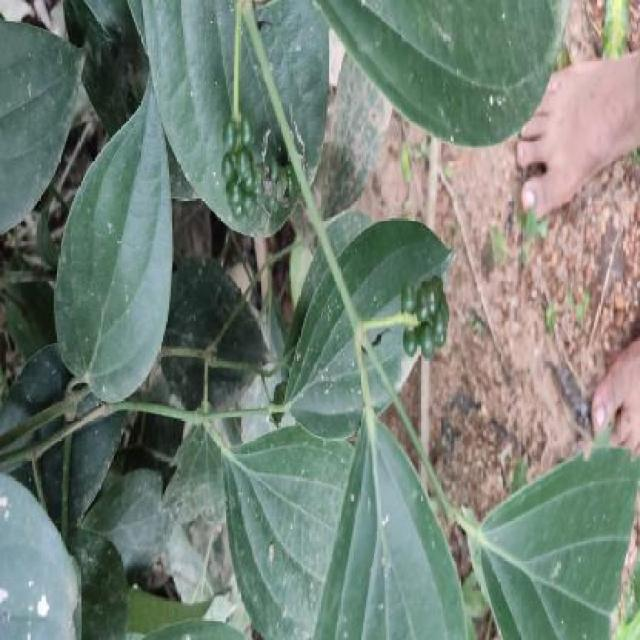UNRIPE: (223, 114, 282, 228), (403, 276, 449, 359)
